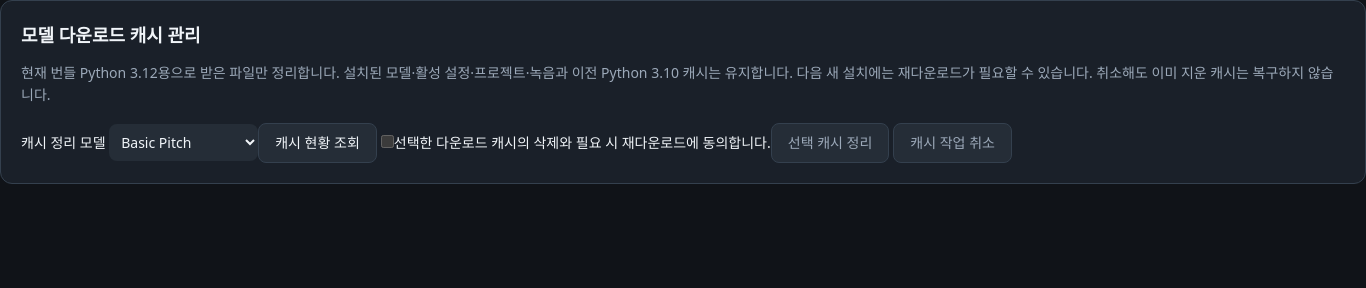
Test: 모델을 바꾸면 이전 조회와 동의로 다른 모델을 지우지 않는다
Click the button "캐시 현황 조회": [318, 143] box [258, 123, 377, 163]
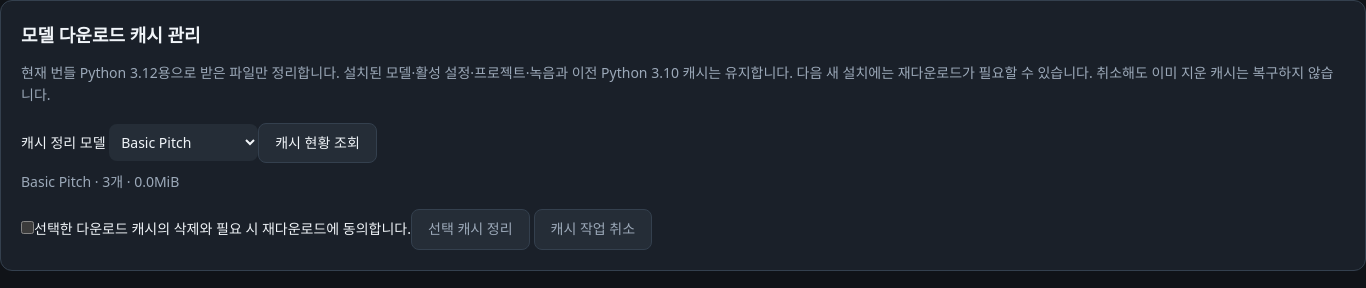
Check: the text "Basic Pitch · 3개 · 0.0MiB" is shown, box [21, 172, 179, 191]
Click the checkbox: [28, 228] box [21, 221, 34, 234]
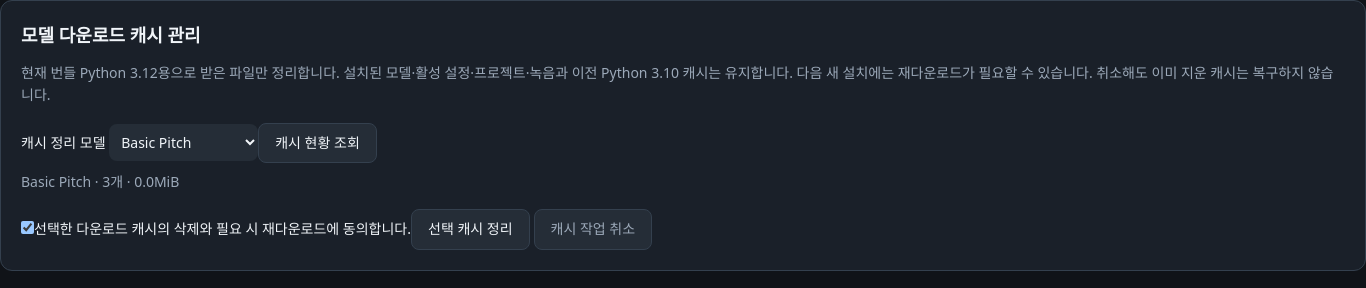
Select "Demucs 전체 기타" in the dropdown: [184, 142] box [109, 124, 258, 161]
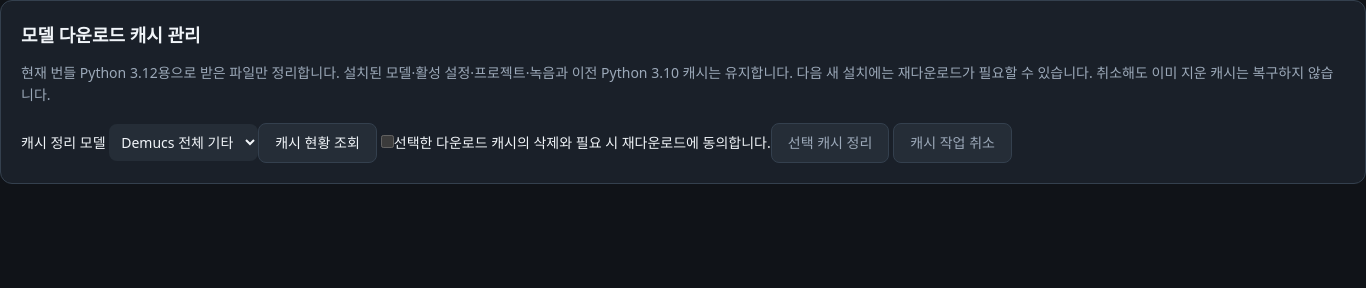
Check: the button "선택 캐시 정리" is disabled, box [771, 123, 889, 163]
Check: the text "Basic Pitch · 3개" is gone
